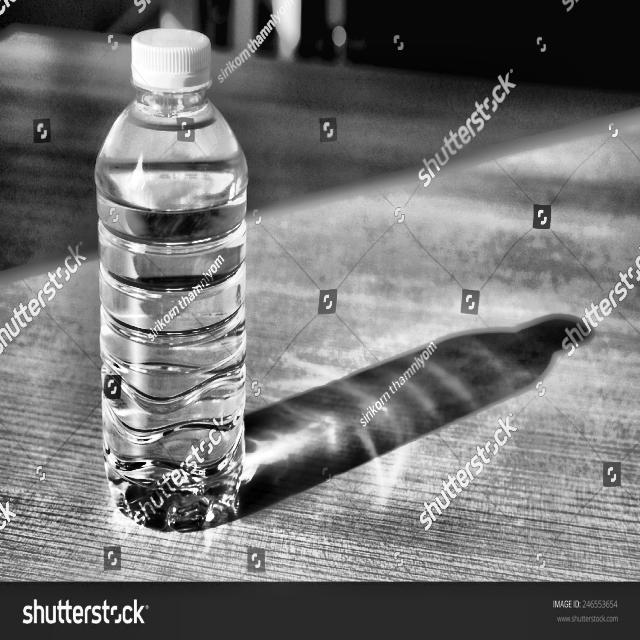waterbottle: (85, 22, 258, 539)
